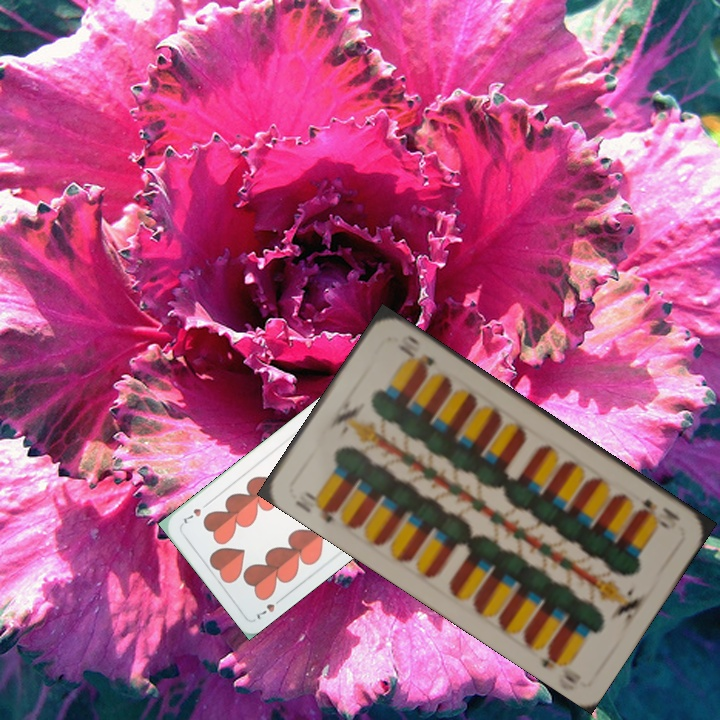E10: (635, 494, 683, 532), (300, 487, 340, 526)
H7: (252, 593, 286, 622)
